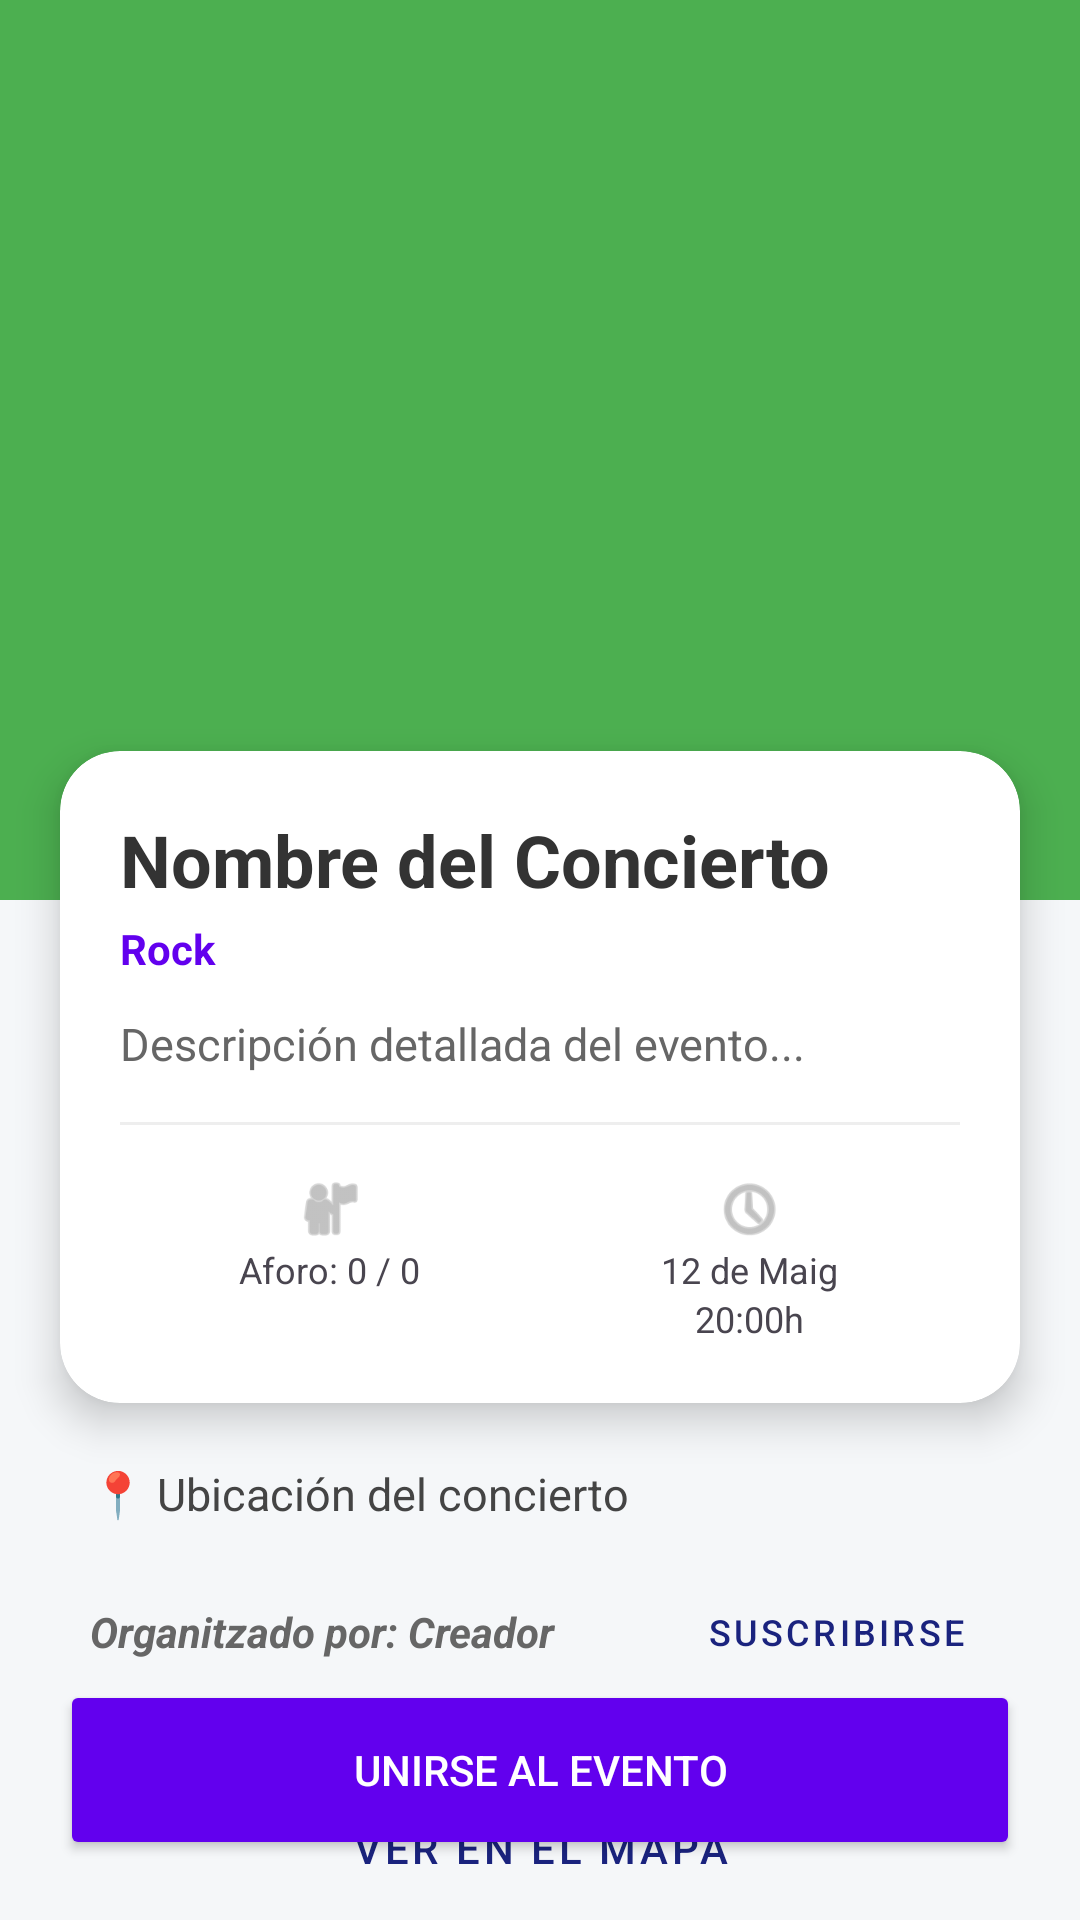

Locate icon controls on the screen. Image size 1080 x 1920, boxes as (x1, y1, x2, y2).
recent history: (724, 1184, 775, 1235)
